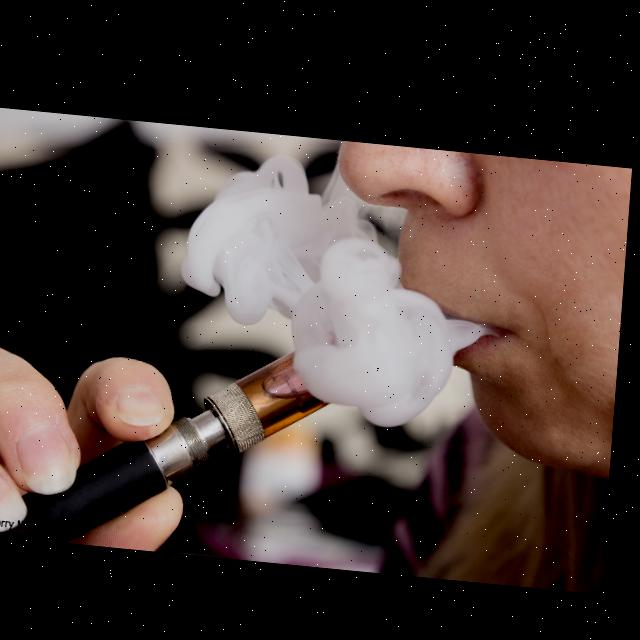vape: (0, 321, 340, 561)
